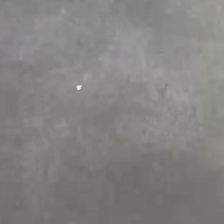Target: (74, 83, 83, 90)
